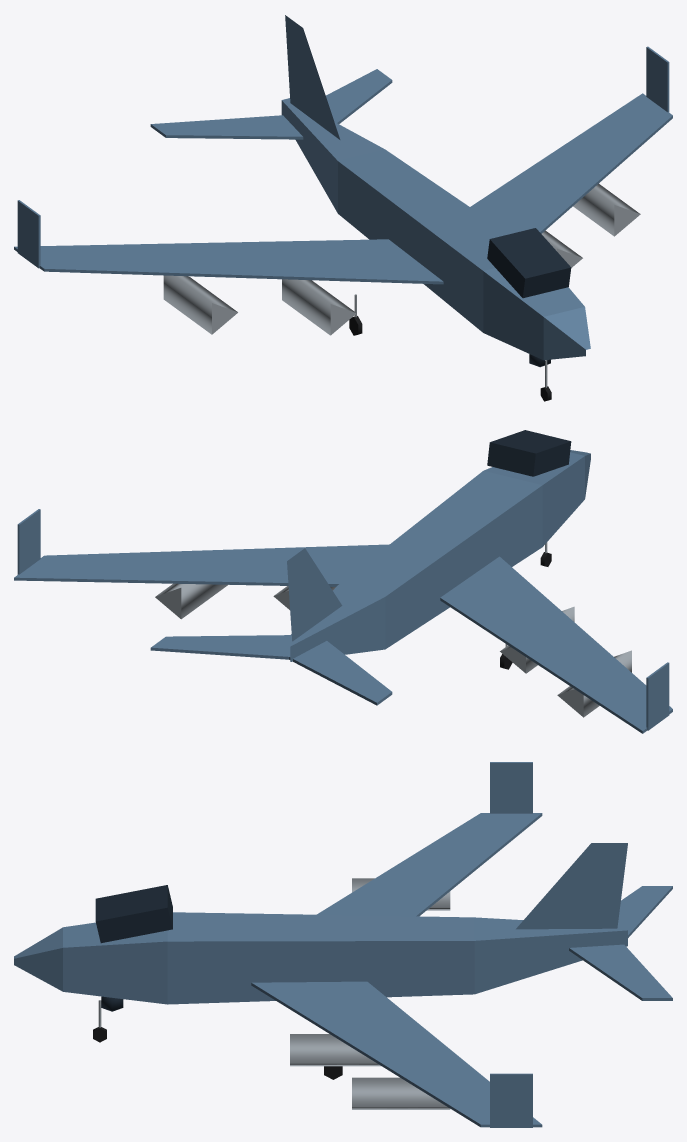
File: veh_air_airliner_a10_lod2.glb
3 renders of one model, top to bottom at view 1: azimuth 30°, elevation 25°; view 2: azimuth 150°, elevation 25°; view 3: azimuth 270°, elevation 25°, orthographic.
Parts seen in each view (by area): view 1: body; view 2: body; view 3: body.
Boxes of the visible parts, left/top/right/bottom form: body: left=14, top=15, right=672, bottom=367; body: left=14, top=430, right=672, bottom=733; body: left=14, top=762, right=672, bottom=1127.
Size of the model in its own units: 27.68 by 8.22 by 24.68.
